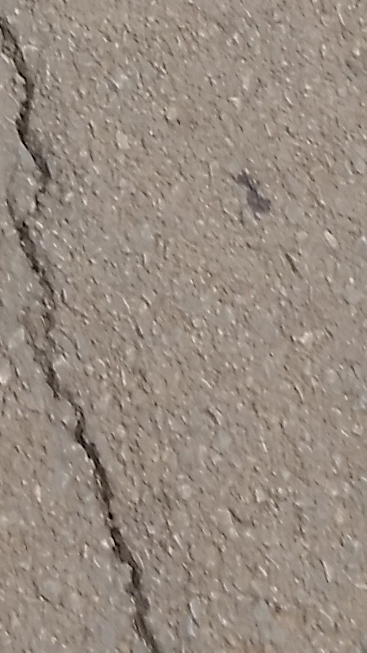A: (1, 31, 183, 649)
